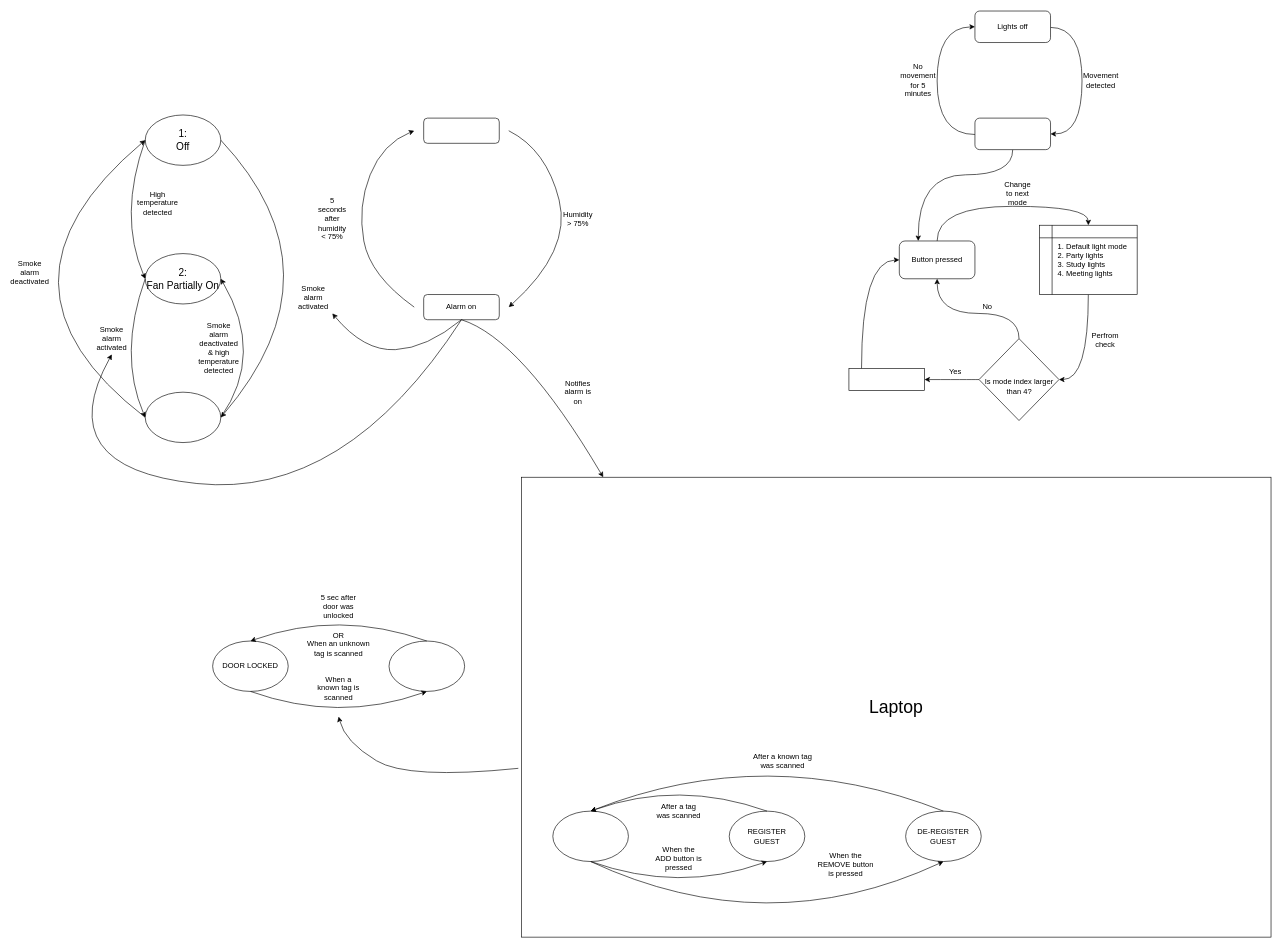
The diagram is 1282 pixels wide and 948 high, and some of its shapes have lost their labels. Each missing label, with the centre of its shape:
"3: Fan 100% On" goes at (x=183, y=417).
"Alarm off" goes at (x=461, y=130).
"DEFAULT STATE (WAIT FOR TAG)" goes at (x=590, y=836).
"DOOR UNLOCKED" goes at (x=426, y=665).
"Lights on" goes at (x=1012, y=133).
"Reset back to default" goes at (x=886, y=379).
